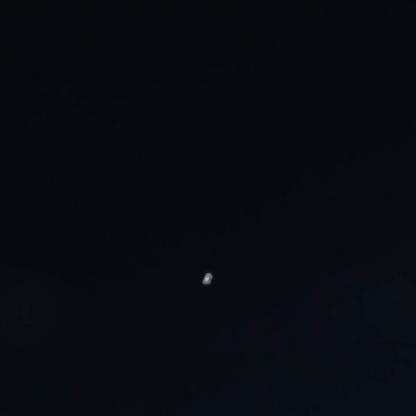ball: (197, 272, 215, 294), (199, 264, 217, 278)
